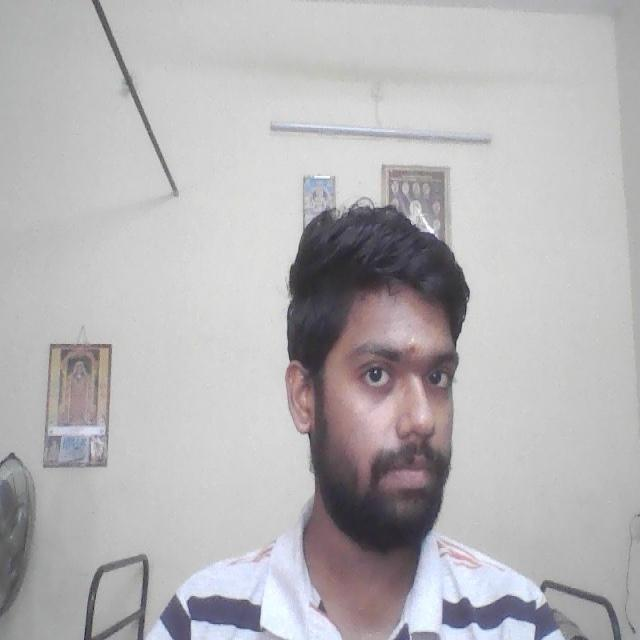Focused: (304, 304, 468, 520)
